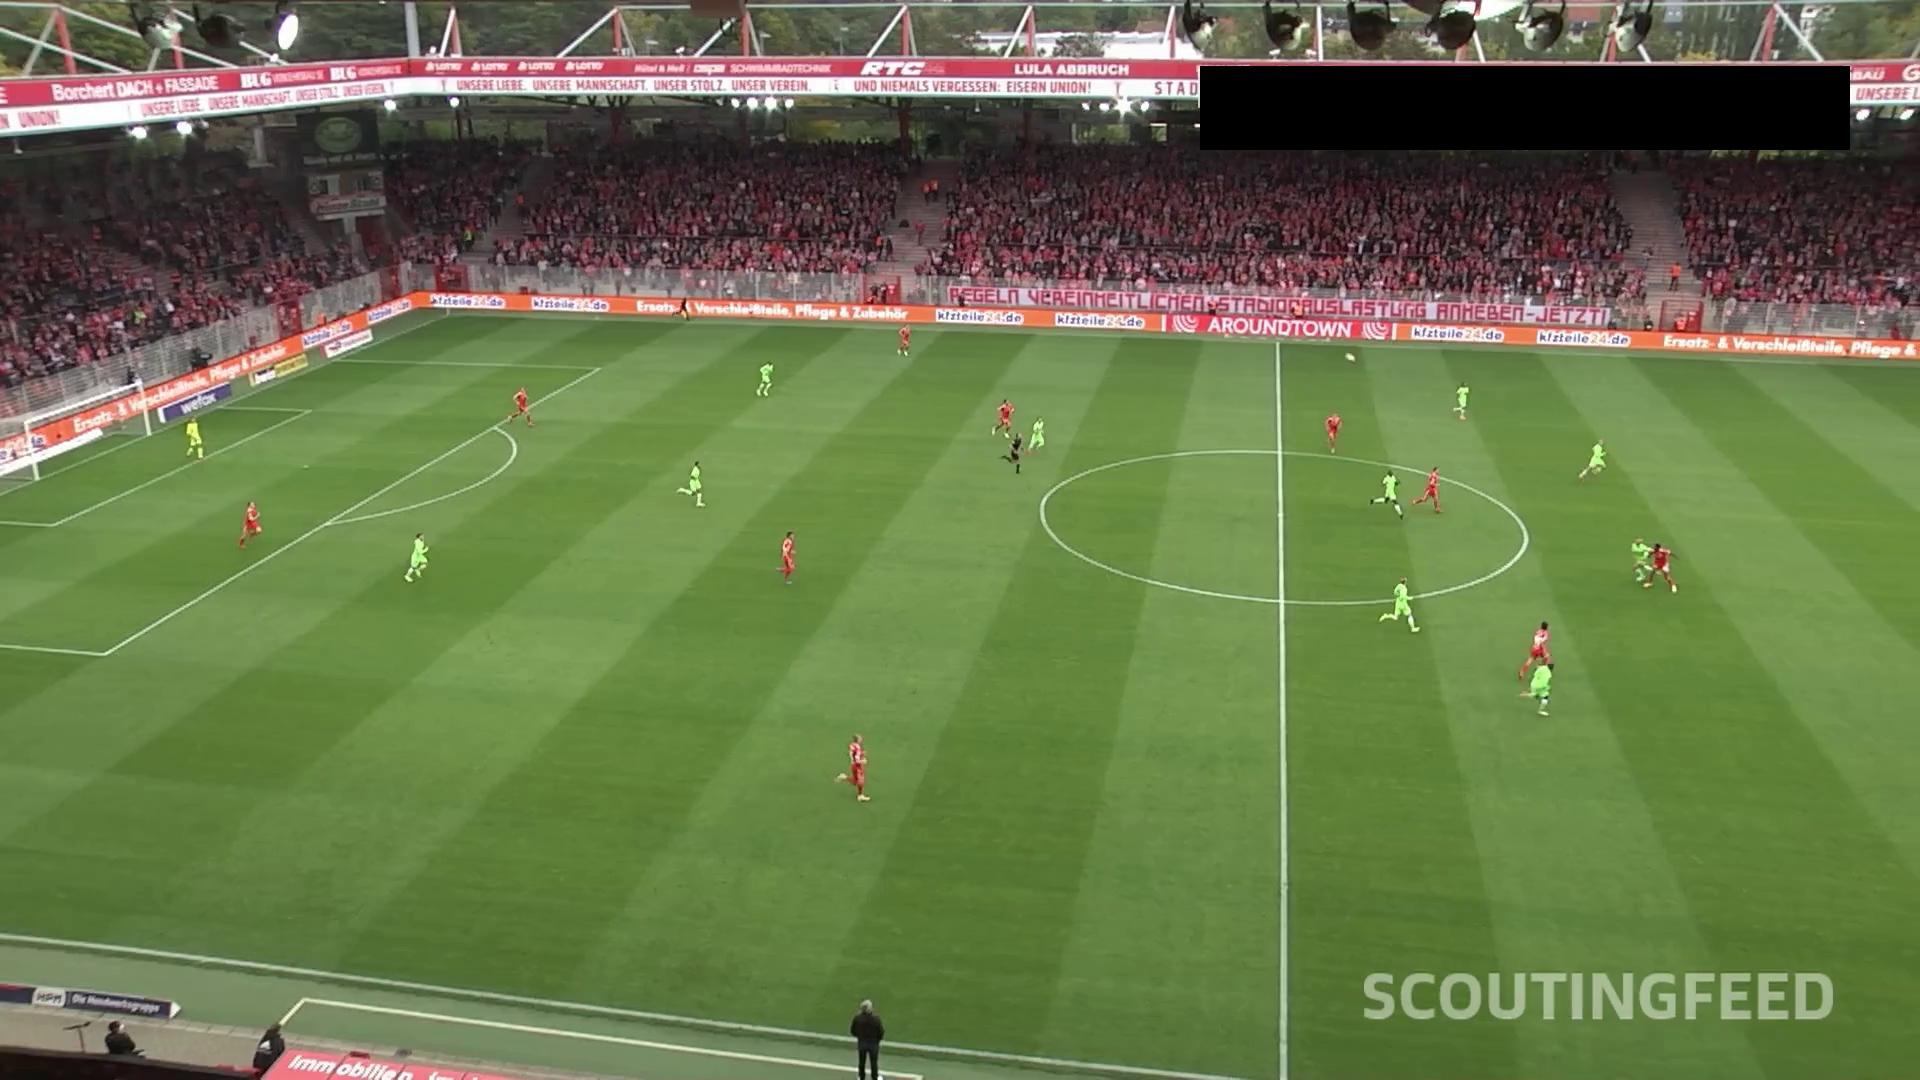Location-of-ball: (1338, 348, 1365, 364)
